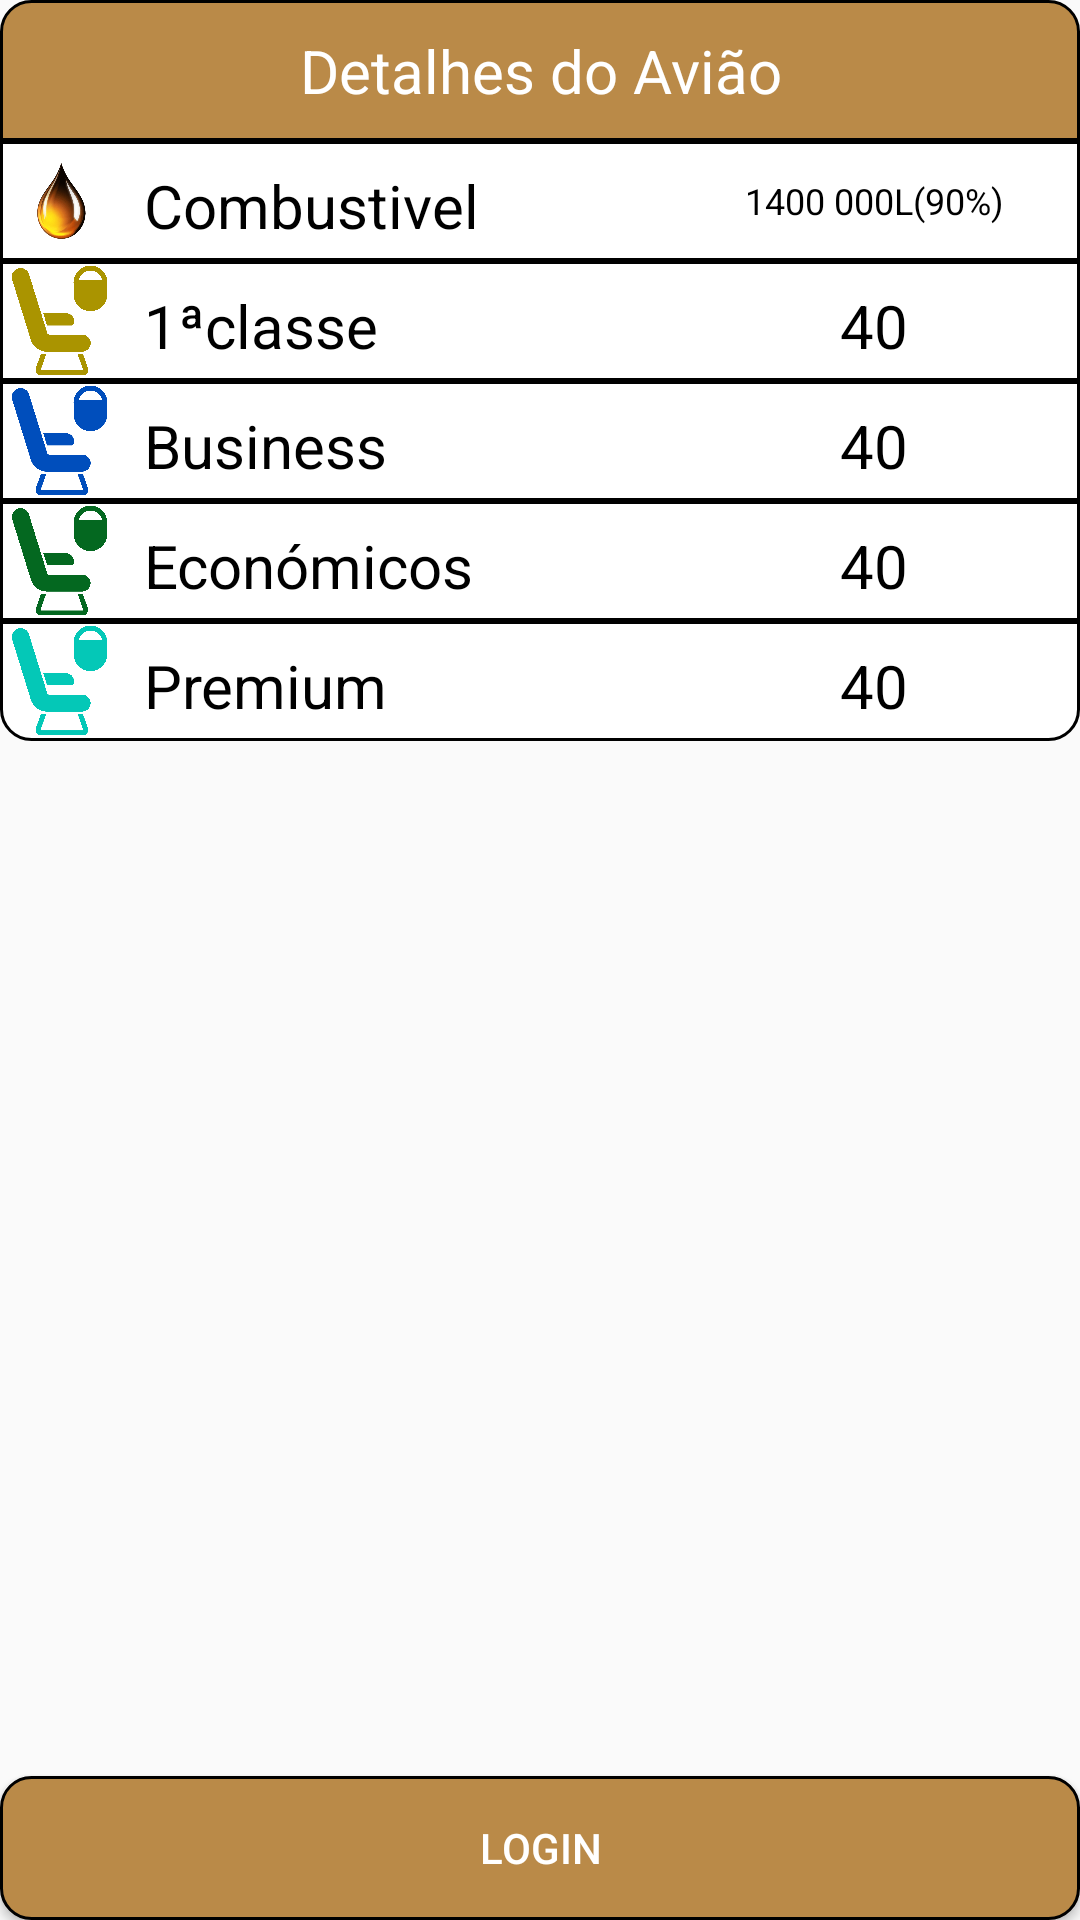

Named icons in this screenshot (1080×1920) and their centers, [x,y]:
economica: [59,560]
primeira classse: [59,320]
